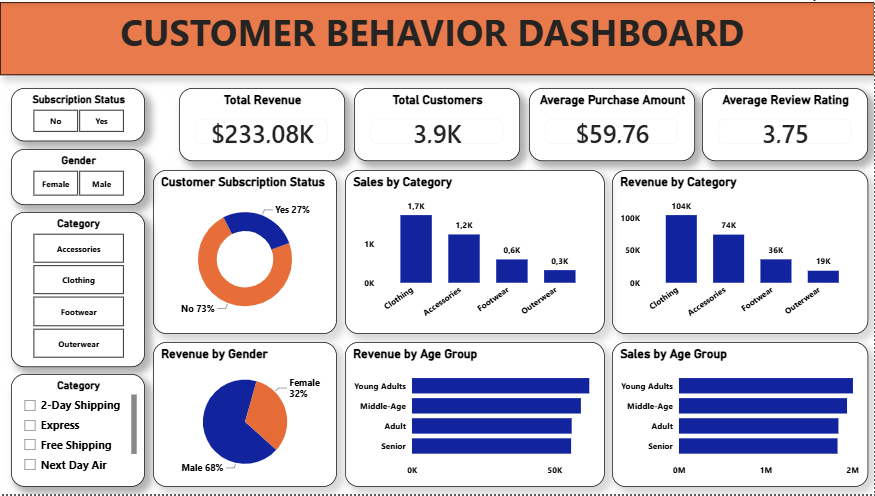

The page's visual inventory and layout, read from the dashboard file:
{"tool":"powerbi","page":{"name":"Page 1","canvas":[1280,720],"ordinal":0},"visuals":[{"type":"textbox","box":[0,0,1280.5,106.8],"z":0},{"type":"cardVisual","title":"Total Revenue ","fields":{"Data":["Sum(CustomerBehavior.purchase_amount)"]},"box":[262,125.9,242.9,106.8],"z":1000},{"type":"cardVisual","title":"Total Customers","fields":{"Data":["CountNonNull(CustomerBehavior.customer_id)"]},"box":[518,125.9,242.9,106.8],"z":2000},{"type":"cardVisual","title":"Average Purchase Amount ","fields":{"Data":["Avg(CustomerBehavior.purchase_amount)"]},"box":[774.1,125.9,242.9,106.8],"z":3000},{"type":"cardVisual","title":"Average Review Rating ","fields":{"Data":["Avg(CustomerBehavior.review_rating)"]},"box":[1027.3,125.9,242.9,106.8],"z":4000},{"type":"donutChart","title":"Customer Subscription Status","fields":{"Category":["CustomerBehavior.subscription_status"],"Y":["CountNonNull(CustomerBehavior.customer_id)"]},"box":[223.9,245.9,269.3,240],"z":5000},{"type":"clusteredColumnChart","title":"Revenue by Category","fields":{"Category":["CustomerBehavior.category"],"Y":["Sum(CustomerBehavior.purchase_amount)"]},"box":[895.6,245.9,374.6,240],"z":6000},{"type":"clusteredColumnChart","title":"Sales by Category","fields":{"Category":["CustomerBehavior.category"],"Y":["CountNonNull(CustomerBehavior.customer_id)"]},"box":[504.9,245.9,380.5,240],"z":7000},{"type":"clusteredBarChart","title":"Revenue by Age Group","fields":{"Category":["CustomerBehavior.age_group"],"Y":["Sum(CustomerBehavior.purchase_amount)"]},"box":[504.9,497.6,380.5,212.2],"z":8000},{"type":"clusteredBarChart","title":"Sales by Age Group","fields":{"Category":["CustomerBehavior.age_group"],"Y":["Sum(CustomerBehavior.customer_id)"]},"box":[895.6,497.6,374.6,212.2],"z":9000},{"type":"slicer","title":"Subscription Status","fields":{"Values":["CustomerBehavior.subscription_status"]},"box":[16.1,125.9,196.1,77.6],"z":10000},{"type":"slicer","title":"Gender","fields":{"Values":["CustomerBehavior.gender"]},"box":[16.1,215.1,196.1,82],"z":11000},{"type":"slicer","title":"Category","fields":{"Values":["CustomerBehavior.category"]},"box":[16.1,307.3,196.1,226.8],"z":12000},{"type":"slicer","title":"Category","fields":{"Values":["CustomerBehavior.shipping_type"]},"box":[16.1,544.4,196.1,165.4],"z":13000},{"type":"pieChart","title":"Revenue by Gender","fields":{"Category":["CustomerBehavior.gender"],"Series":["CustomerBehavior.gender"],"Y":["Sum(CustomerBehavior.purchase_amount)"]},"box":[223.9,497.6,269.3,212.2],"z":14000}]}

Visuals, with their boxes in screenshot pixels (x1, y1, x2, y2), scaled from the page's 1280x720 canvas onto the 875x496 screenshot:
textbox: [0, 0, 874, 74]
"Total Revenue " cardVisual: [179, 87, 345, 160]
"Total Customers" cardVisual: [354, 87, 520, 160]
"Average Purchase Amount " cardVisual: [529, 87, 695, 160]
"Average Review Rating " cardVisual: [702, 87, 868, 160]
"Customer Subscription Status" donutChart: [153, 169, 337, 335]
"Revenue by Category" clusteredColumnChart: [612, 169, 868, 335]
"Sales by Category" clusteredColumnChart: [345, 169, 605, 335]
"Revenue by Age Group" clusteredBarChart: [345, 343, 605, 489]
"Sales by Age Group" clusteredBarChart: [612, 343, 868, 489]
"Subscription Status" slicer: [11, 87, 145, 140]
"Gender" slicer: [11, 148, 145, 205]
"Category" slicer: [11, 212, 145, 368]
"Category" slicer: [11, 375, 145, 489]
"Revenue by Gender" pieChart: [153, 343, 337, 489]
